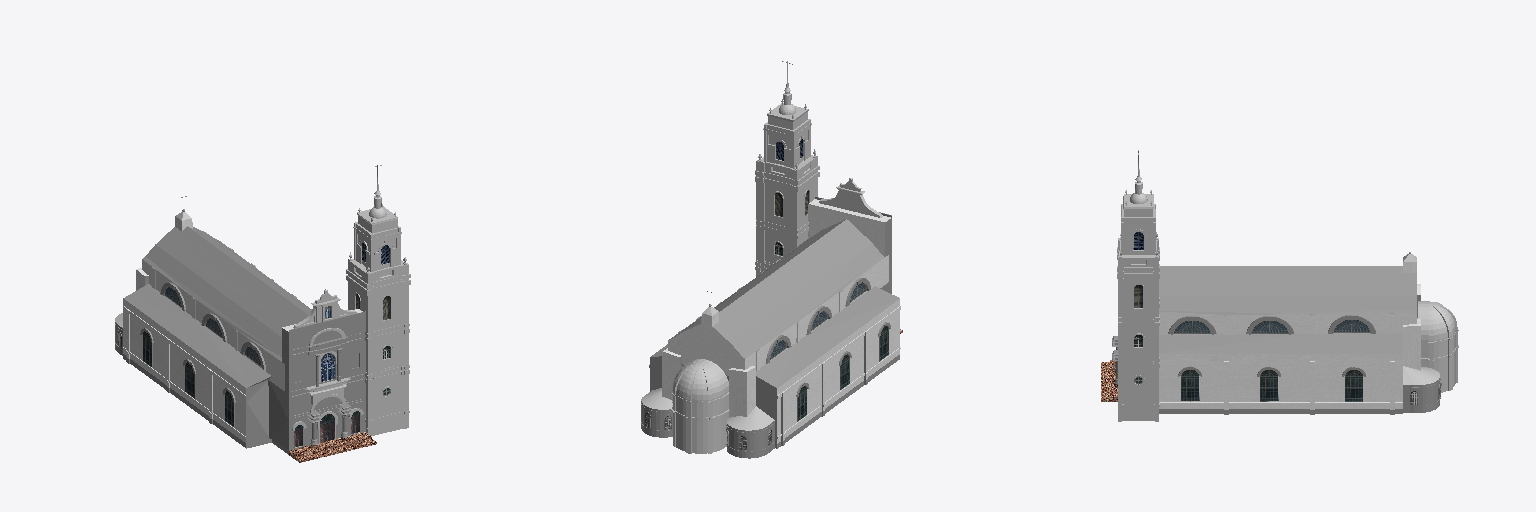
The picture shows the model from 3 angles: view 1: azimuth 30°, elevation 25°; view 2: azimuth 150°, elevation 25°; view 3: azimuth 270°, elevation 25°; orthographic projection.
Visible parts, largest first — view 1: Cube, Cube.005, Cube.001_Cube.002, Cube.011, Plane_Plane.001; view 2: Cube, Cube.005, Sphere.001, Cube.020, Cube.001_Cube.002; view 3: Cube, Cube.005, Sphere.001, Cube.020, Cube.015, Cube.017, Cube.016, Cube.013, Cube.018.
Boxes of the visible parts, x1,y1,x2,y2 form: Cube: [123, 211, 376, 462]; Cube.005: [346, 206, 410, 435]; Cube.001_Cube.002: [311, 289, 340, 322]; Cube.011: [307, 404, 351, 447]; Plane_Plane.001: [305, 378, 350, 404]; Cube: [649, 196, 902, 448]; Cube.005: [755, 103, 819, 276]; Sphere.001: [671, 359, 729, 453]; Cube.020: [641, 388, 774, 458]; Cube.001_Cube.002: [836, 178, 864, 212]; Cube: [1101, 254, 1420, 414]; Cube.005: [1117, 194, 1159, 421]; Sphere.001: [1417, 301, 1458, 392]; Cube.020: [1403, 366, 1440, 412]; Cube.015: [1328, 315, 1375, 333]; Cube.017: [1257, 367, 1280, 401]; Cube.016: [1178, 366, 1201, 401]; Cube.013: [1168, 316, 1216, 334]; Cube.018: [1342, 367, 1365, 401].
Bounding box in the file's own units: 19.03 × 32.42 × 40.24.
Materials: 24 (12 with a texture image).